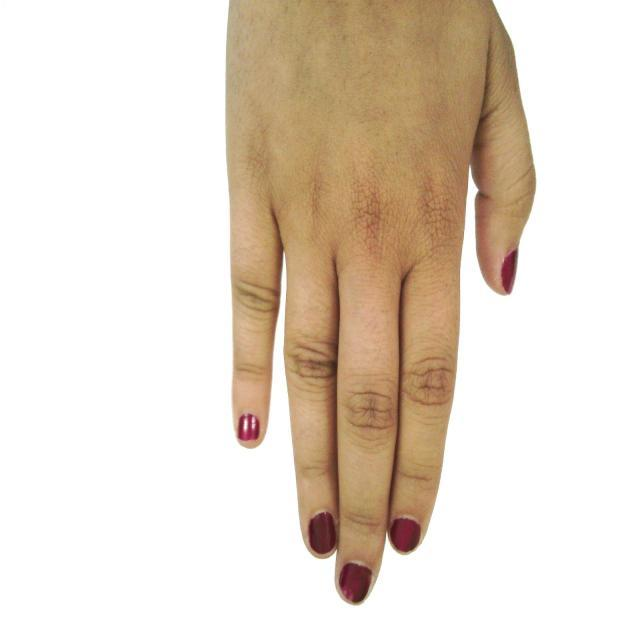Fingernail: (342, 564, 371, 603), (309, 513, 335, 556), (391, 518, 420, 554), (238, 413, 260, 444), (502, 251, 517, 293)
